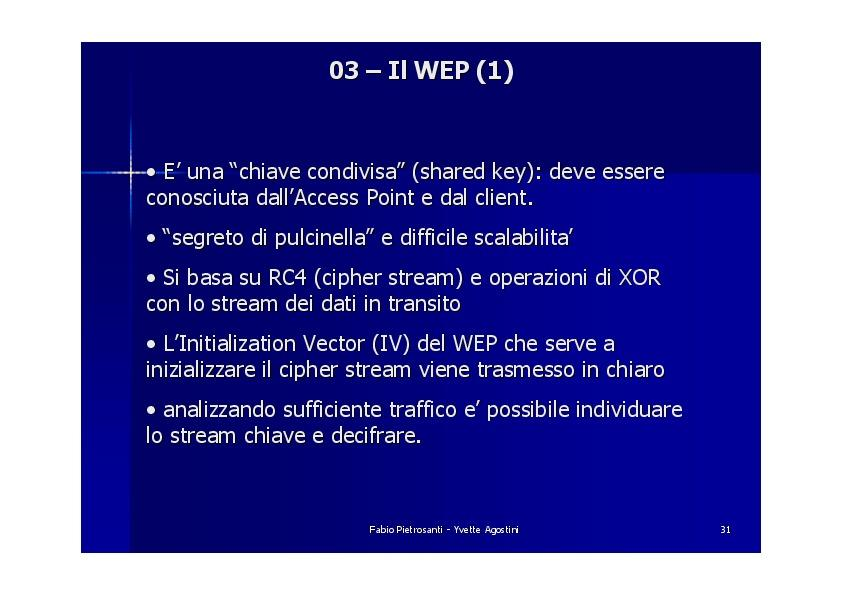paragraph: (135, 145, 723, 473)
title: (323, 48, 523, 97)
